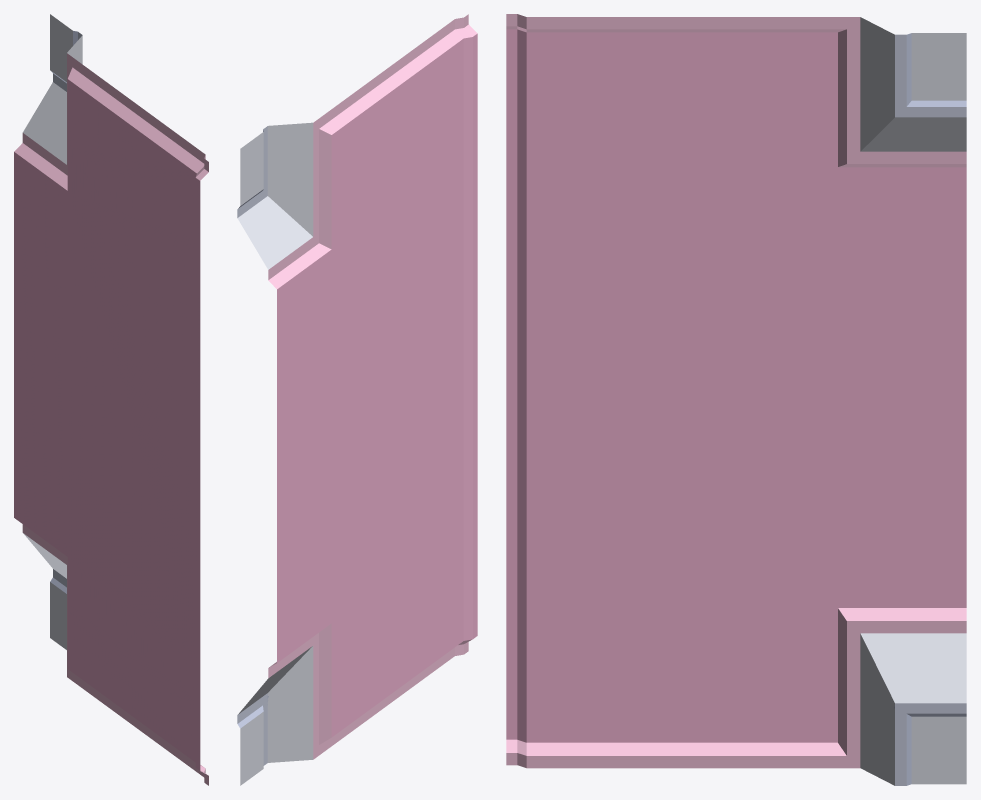
Rendered from WallPanel_MidRight.fbx.
3 views of the same model, side by side, from view 1: azimuth 30°, elevation 25°; view 2: azimuth 150°, elevation 25°; view 3: azimuth 270°, elevation 25° (orthographic). The views are drawn at different scales.
Visible parts, largest first — view 1: Right; view 2: Right; view 3: Right.
Part boxes in pixels (box(x1,y1,x2,y2)): Right: box(14, 14, 208, 785); Right: box(237, 14, 477, 785); Right: box(506, 14, 966, 785).
Size of the model in its own units: 26.53 by 360 by 200.
1 material, 1 textured.
